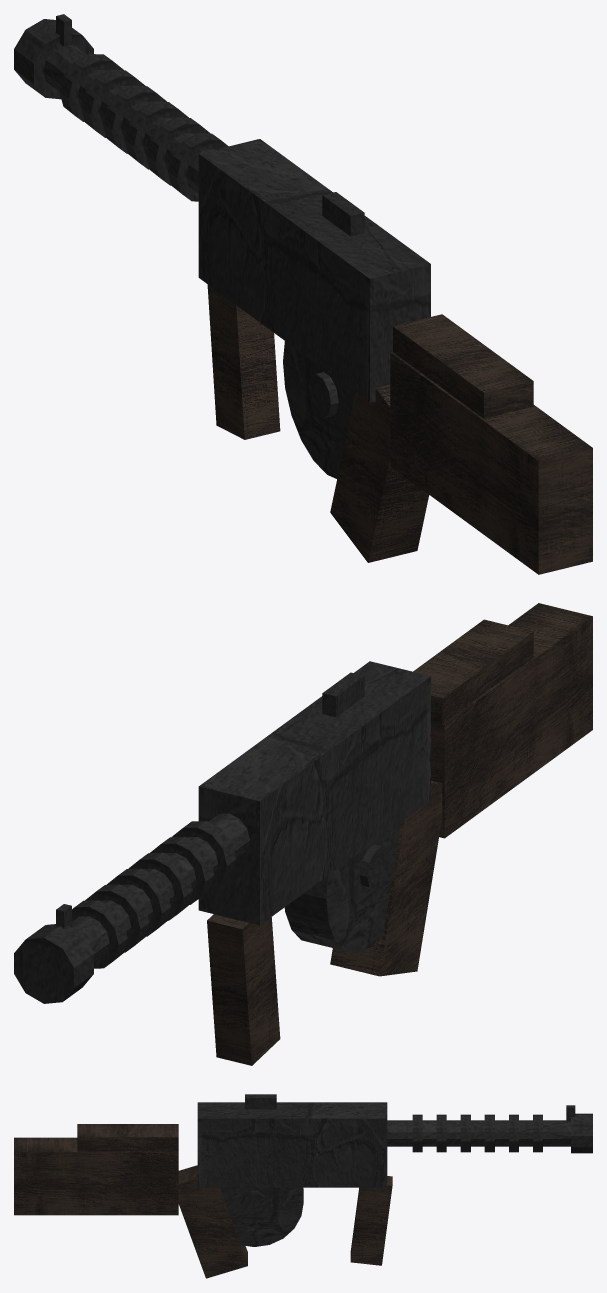
Rendered from wpn_tommygun.glb.
The picture shows the model from 3 angles, top to bottom: view 1: azimuth 30°, elevation 25°; view 2: azimuth 150°, elevation 25°; view 3: azimuth 270°, elevation 25°; orthographic projection. The views are drawn at different scales.
Parts seen in each view (by area): view 1: wpn_tommygun; view 2: wpn_tommygun; view 3: wpn_tommygun.
Boxes of the visible parts, box(x1,y1,x2,y2) form: wpn_tommygun: box(14, 14, 592, 574); wpn_tommygun: box(14, 603, 592, 1065); wpn_tommygun: box(14, 1094, 592, 1278).
Bounding box in the file's own units: 0.062 × 0.3067 × 0.915.
Materials: 2 (2 with a texture image).
